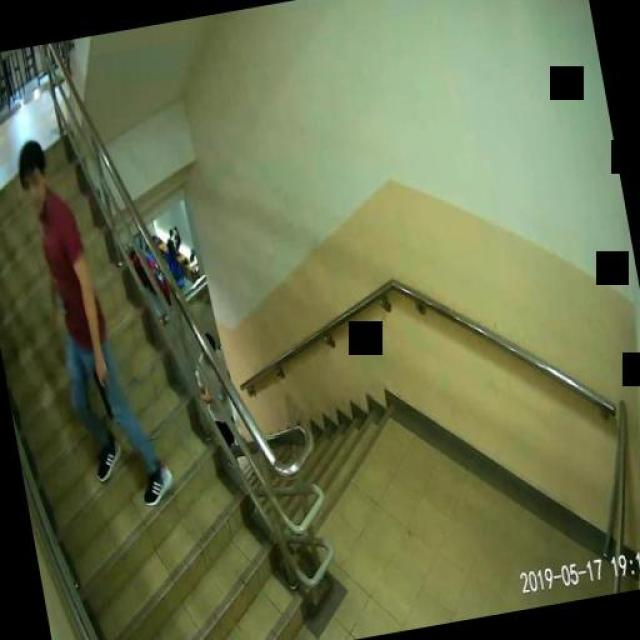gun: (89, 358, 115, 418)
